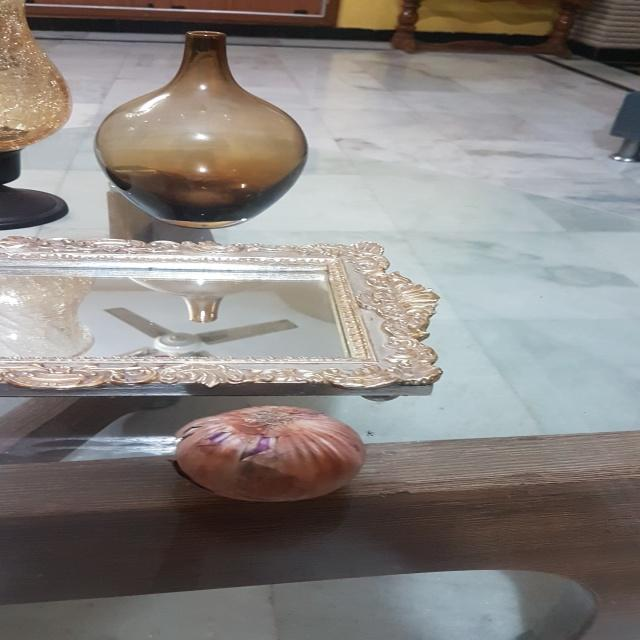onion: (156, 394, 380, 520)
